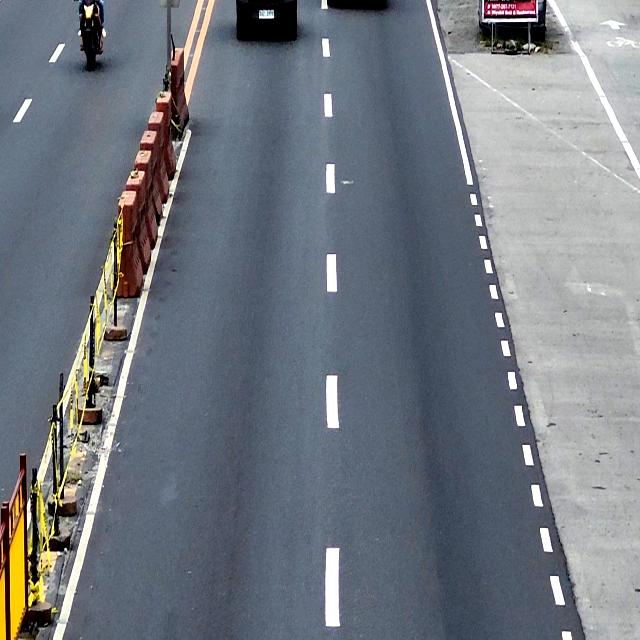License-Plate: (258, 8, 275, 20)
Motorcycle: (78, 0, 101, 71)
